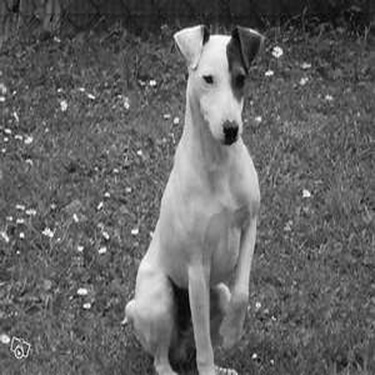dog: (112, 20, 279, 371)
